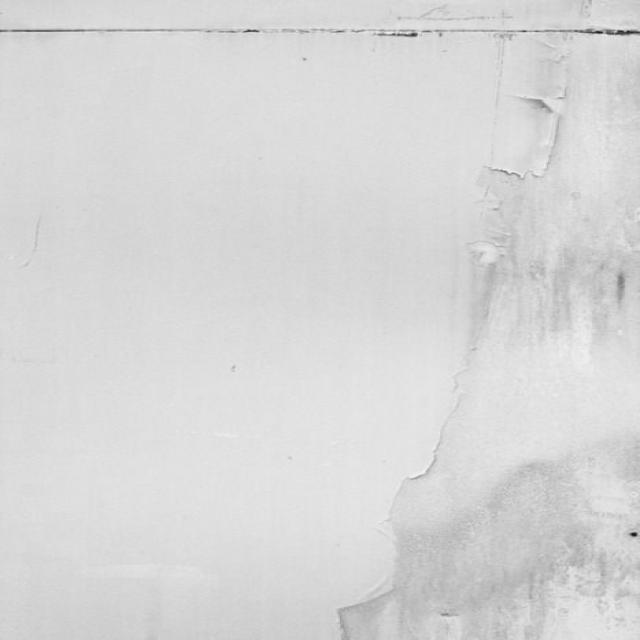peeling paint: (311, 1, 640, 640)
